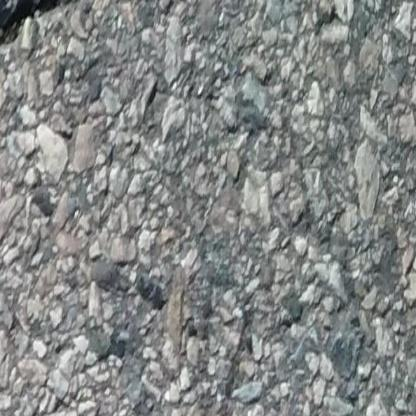Cracks: (0, 0, 99, 64)
